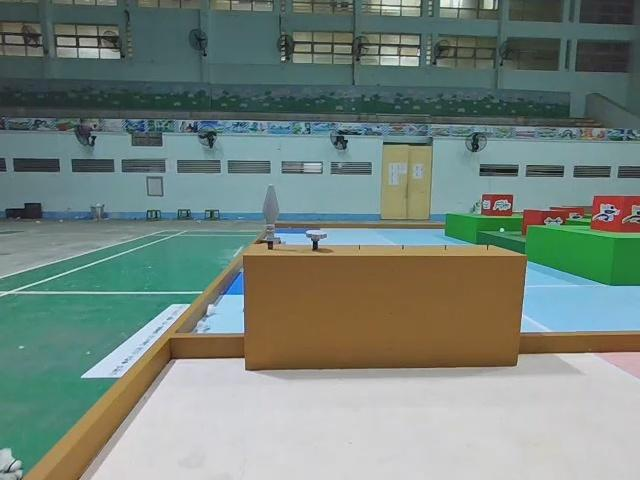Hand: (305, 229, 328, 250)
Sph: (260, 184, 282, 250)
